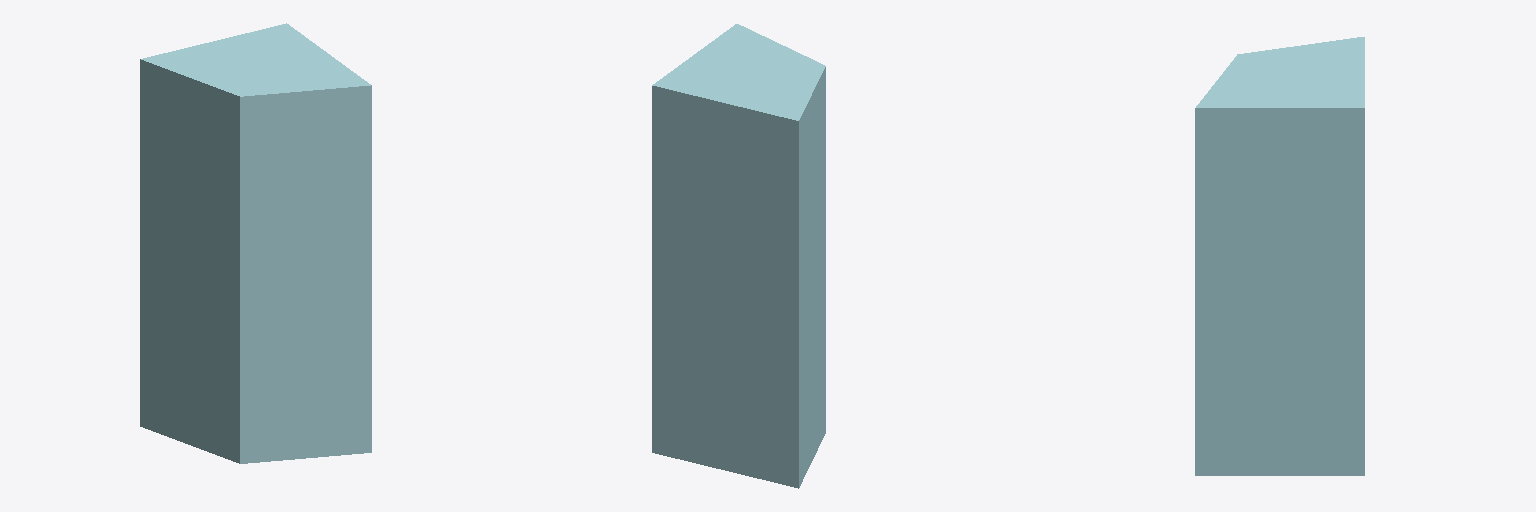
Rendered from cliff_cornerLarge_stone.obj.
3 renders of one model, left to right at view 1: azimuth 30°, elevation 25°; view 2: azimuth 150°, elevation 25°; view 3: azimuth 270°, elevation 25°, orthographic.
Visible parts, largest first — view 1: cliff_cornerLarge_stone; view 2: cliff_cornerLarge_stone; view 3: cliff_cornerLarge_stone.
Part boxes in pixels (left/top/right/bottom): cliff_cornerLarge_stone: left=140, top=23, right=371, bottom=463; cliff_cornerLarge_stone: left=652, top=24, right=825, bottom=488; cliff_cornerLarge_stone: left=1195, top=37, right=1364, bottom=475.
Size of the model in its own units: 0.4185 by 1 by 0.4185.